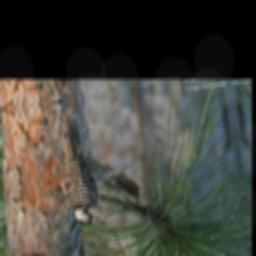Woodpecker: (41, 109, 107, 230)
